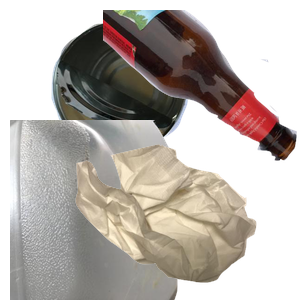glass: (103, 10, 300, 163)
metal: (49, 18, 229, 164)
plastic: (10, 120, 190, 300)
trash: (73, 142, 300, 300)
